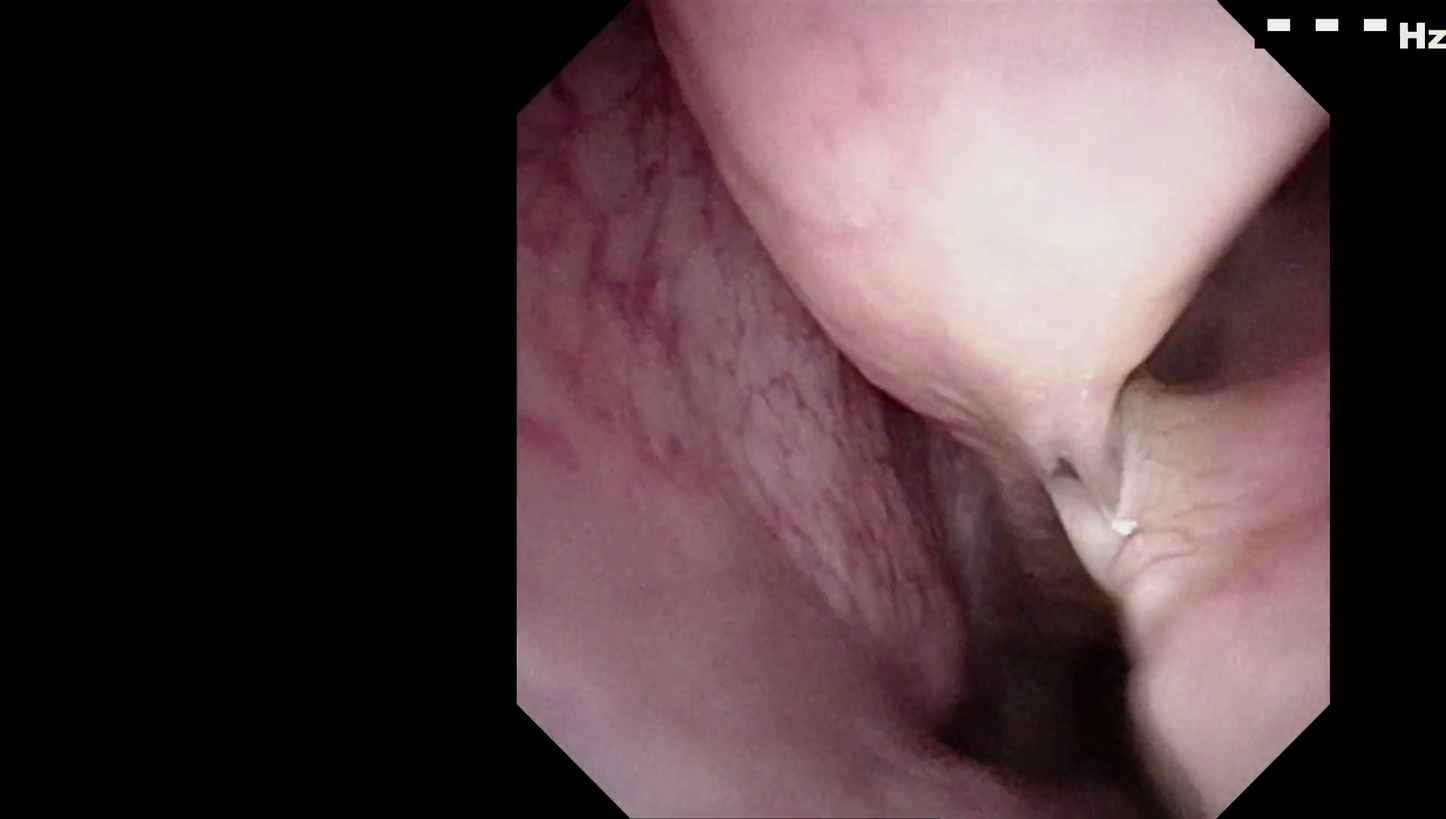next: (900, 540, 1180, 797)
